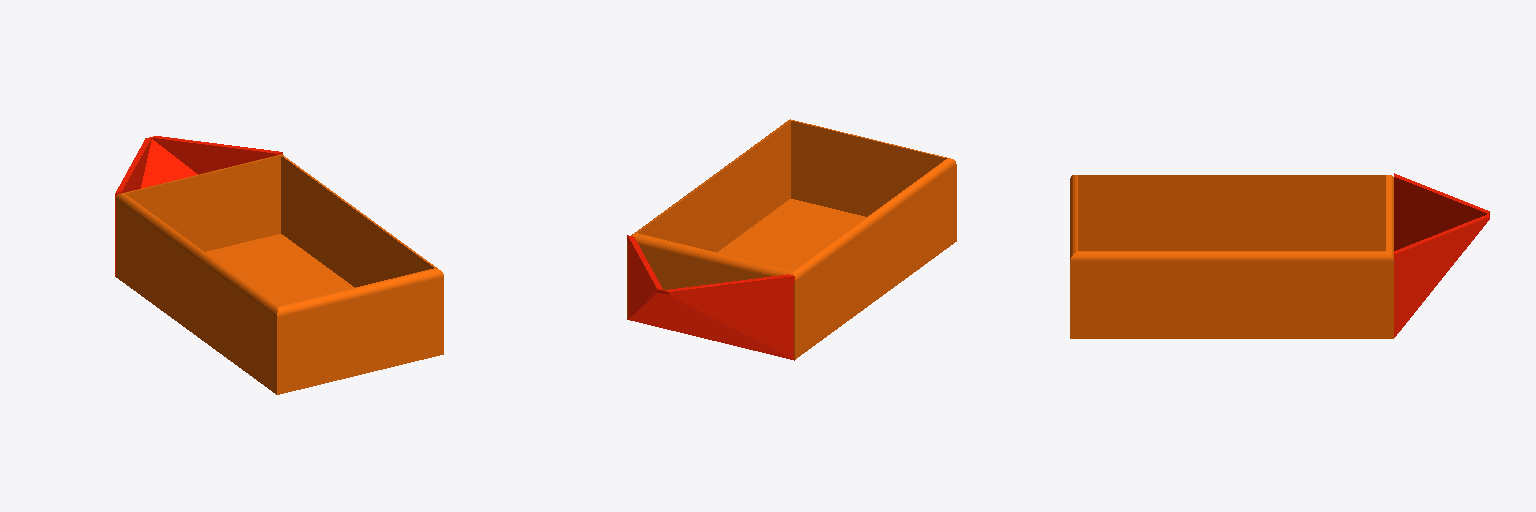
Rendered from obj2_interior-sino.obj.
3 renders of one model, left to right at view 1: azimuth 30°, elevation 25°; view 2: azimuth 150°, elevation 25°; view 3: azimuth 270°, elevation 25°, orthographic.
Parts seen in each view (by area): view 1: Cube.063_Cube.074, Cube.077_Cube.082, Cube.078_Cube.083, Cube.076_Cube.081; view 2: Cube.063_Cube.074, Cube.076_Cube.081, Cube.078_Cube.083, Cube.077_Cube.082; view 3: Cube.063_Cube.074, Cube.077_Cube.082, Cube.076_Cube.081.
Part boxes in pixels (x1,y1,x2,y2): Cube.063_Cube.074: (116, 154, 443, 394); Cube.077_Cube.082: (152, 136, 282, 174); Cube.078_Cube.083: (141, 136, 197, 188); Cube.076_Cube.081: (115, 137, 151, 276); Cube.063_Cube.074: (627, 119, 956, 359); Cube.076_Cube.081: (663, 274, 794, 360); Cube.078_Cube.083: (628, 289, 792, 359); Cube.077_Cube.082: (627, 235, 662, 319); Cube.063_Cube.074: (1070, 175, 1393, 338); Cube.077_Cube.082: (1394, 214, 1488, 337); Cube.076_Cube.081: (1394, 173, 1488, 250).
Bounding box in the file's own units: 4.87 × 2.37 × 10.57.